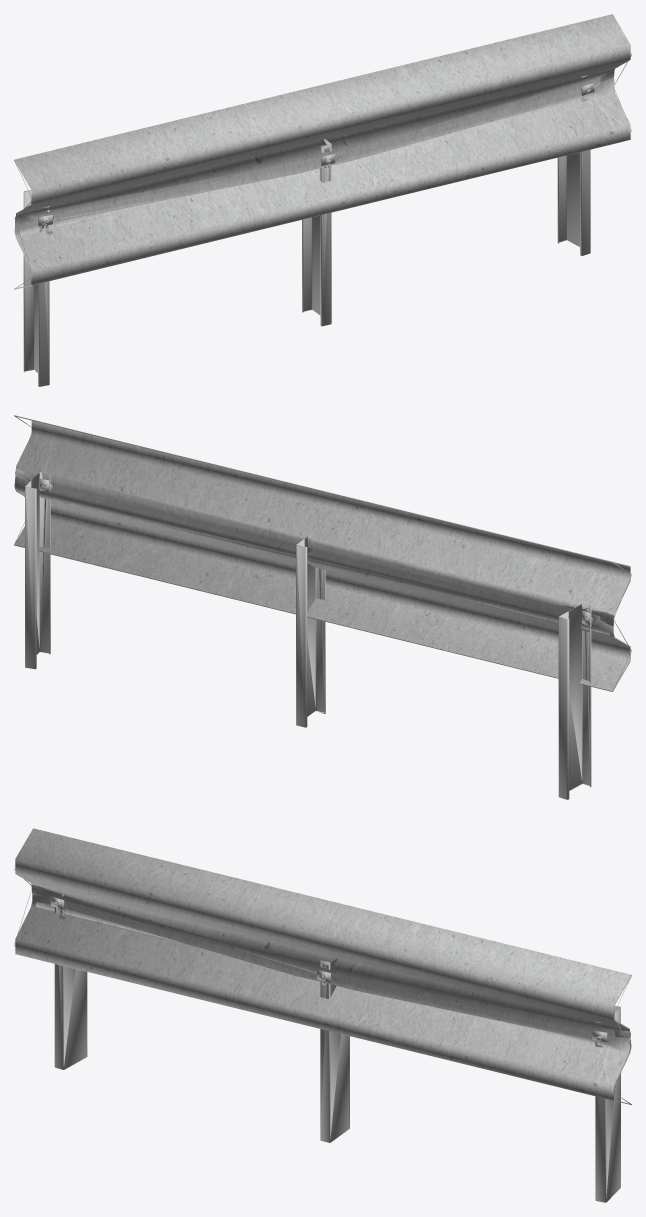
3 views of the same model, one above another, from view 1: azimuth 30°, elevation 25°; view 2: azimuth 150°, elevation 25°; view 3: azimuth 330°, elevation 25° (orthographic).
Parts seen in each view (by area): view 1: Plane.004; view 2: Plane.004; view 3: Plane.004.
Part boxes in pixels (bbox=[...]): Plane.004: bbox=[14, 14, 631, 386]; Plane.004: bbox=[14, 415, 631, 799]; Plane.004: bbox=[14, 828, 631, 1202].
Size of the model in its own units: 2.02 by 0.7491 by 0.2197.
1 material, 1 textured.
